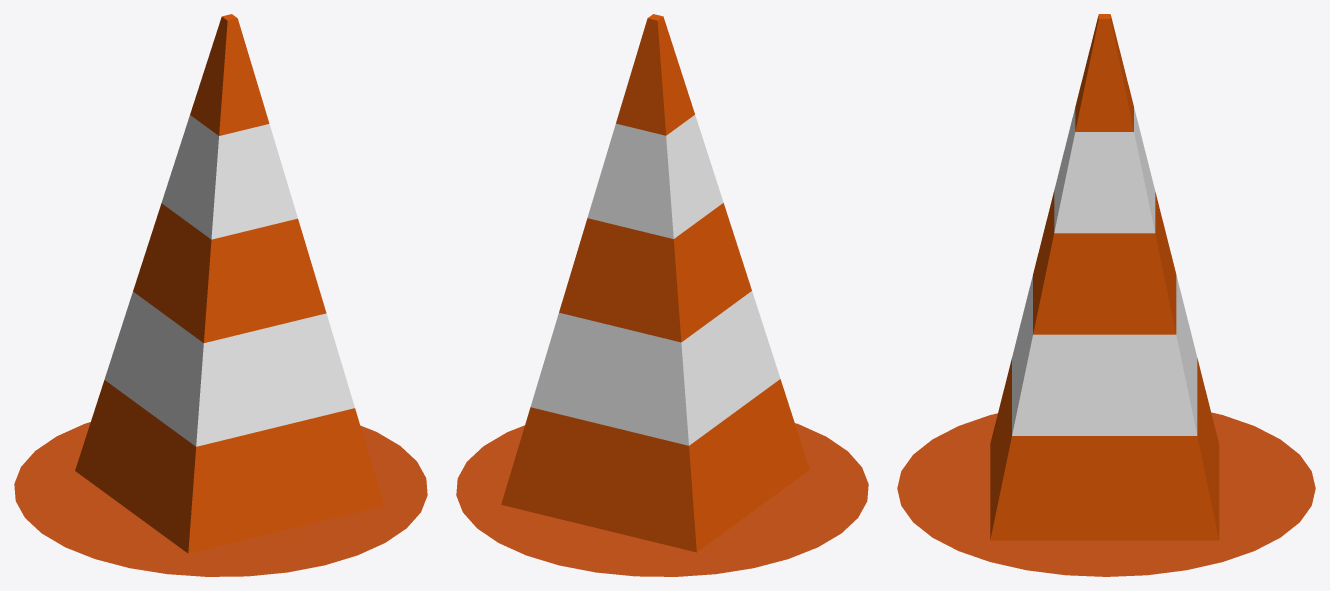
The model's file is huddle.fbx.
3 renders of one model, left to right at view 1: azimuth 30°, elevation 25°; view 2: azimuth 150°, elevation 25°; view 3: azimuth 270°, elevation 25°, orthographic.
Visible parts, largest first — view 1: Cube; view 2: Cube; view 3: Cube.
Part boxes in pixels (x1,y1,x2,y2): Cube: [14, 14, 427, 576]; Cube: [456, 14, 868, 576]; Cube: [897, 14, 1315, 576].
Size of the model in its own units: 362 by 459 by 362.
